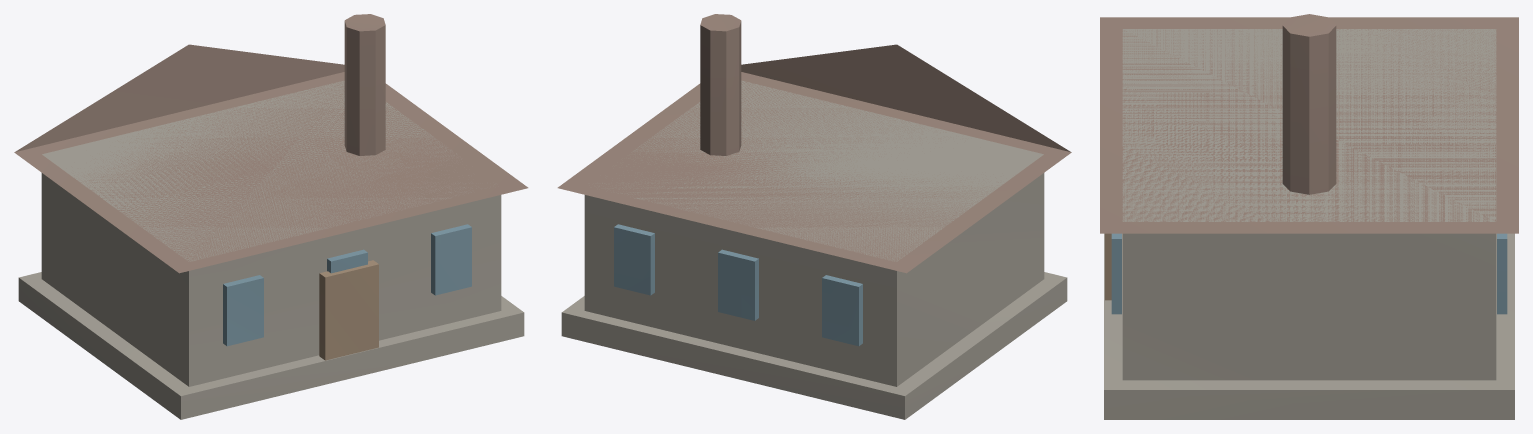
Rendered from chalet-00.glb.
3 views of the same model, side by side, from view 1: azimuth 30°, elevation 25°; view 2: azimuth 150°, elevation 25°; view 3: azimuth 270°, elevation 25° (orthographic). The views are drawn at different scales.
Visible parts, largest first — view 1: world; view 2: world; view 3: world.
Part boxes in pixels (x1,y1,x2,y2): world: (14, 14, 528, 419); world: (557, 14, 1071, 419); world: (1100, 14, 1518, 419).
Bounding box in the file's own units: 1.23 × 0.92 × 1.01.
